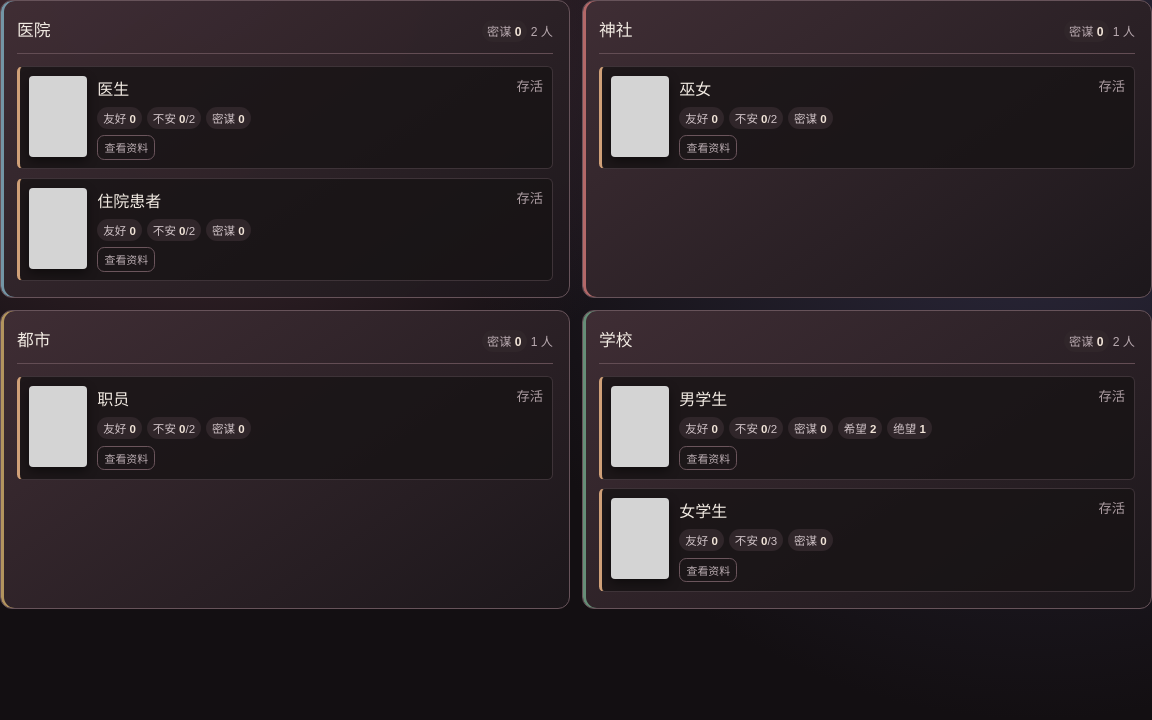
Test: local game components › shows anniversary effective thresholds in character details
Note: Details buttons have unique accessible names even on crowded boards.
Click the button with aria-label "查看男学生资料". click: click(708, 458)
box: [679,446,738,470]
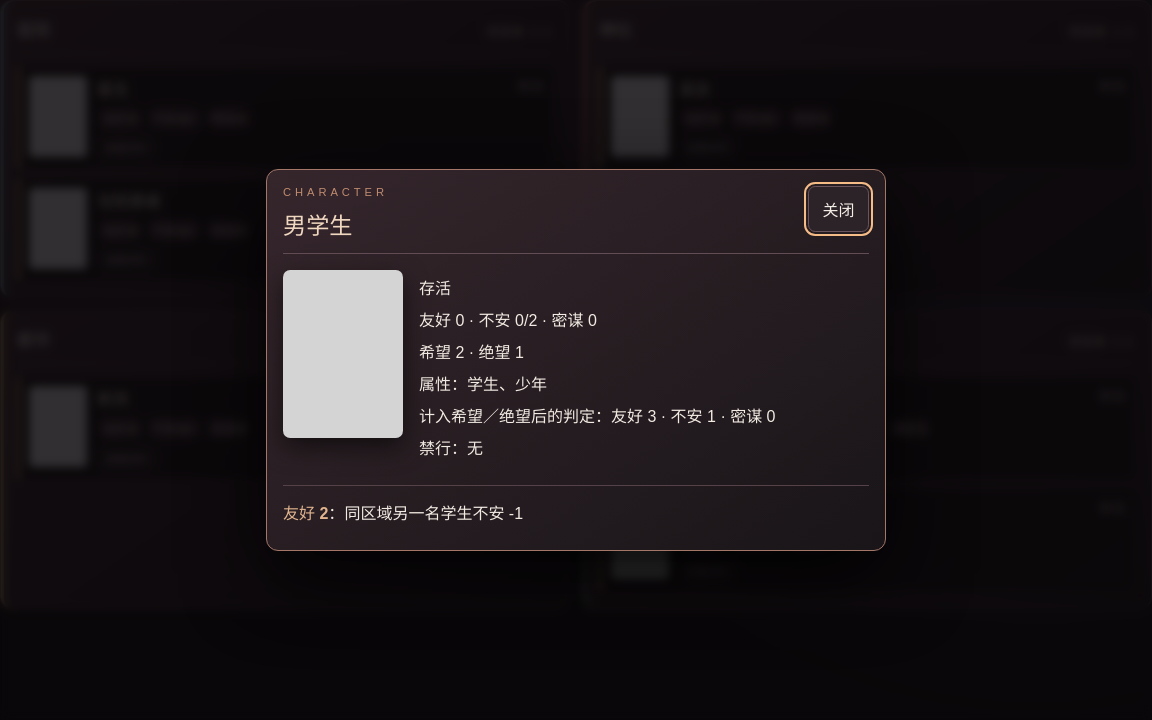
Result: the text "计入希望／绝望后的判定：友好 3 · 不安 1 · 密谋 0" is shown at [419,408,776,425]
